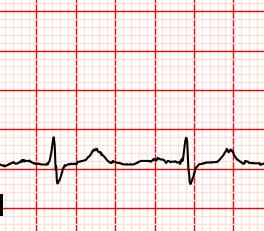Poor R Progression: (176, 135, 195, 165), (45, 135, 60, 164)
ST Depression: (170, 156, 206, 191), (37, 156, 72, 185)
